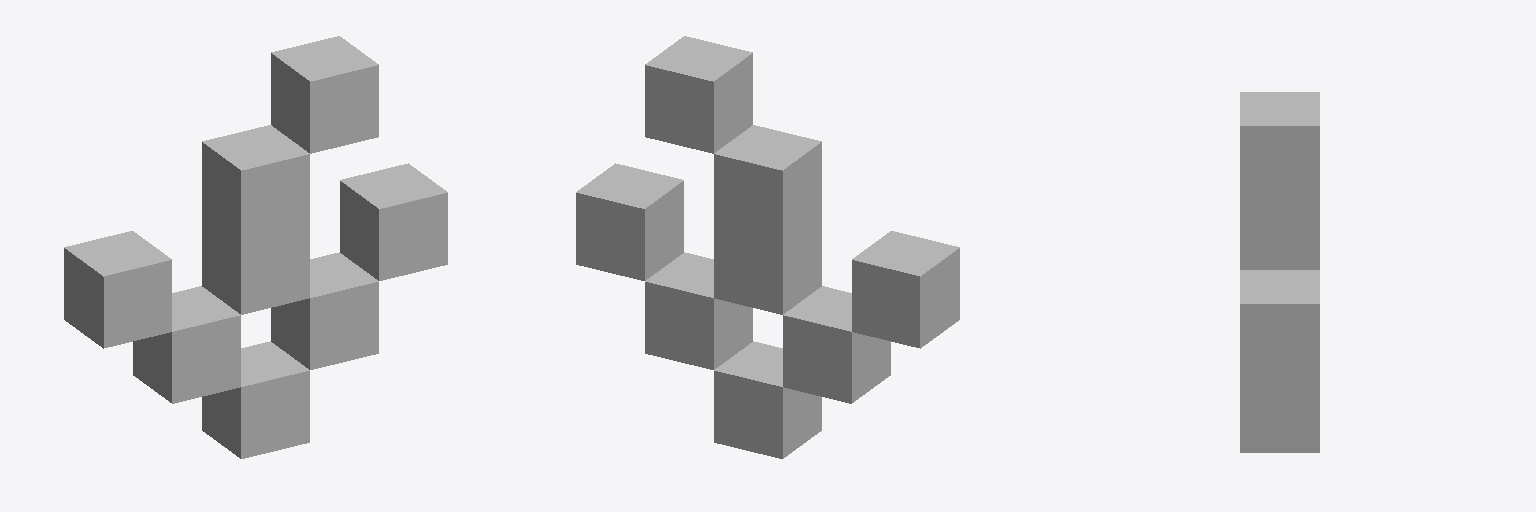
The model's file is grass01.obj.
3 views of the same model, side by side, from view 1: azimuth 30°, elevation 25°; view 2: azimuth 150°, elevation 25°; view 3: azimuth 270°, elevation 25° (orthographic).
Parts seen in each view (by area): view 1: object 1; view 2: object 1; view 3: object 1.
Boxes of the visible parts, <box> form: object 1: <box>64,36,447,458</box>; object 1: <box>576,36,959,458</box>; object 1: <box>1240,92,1319,452</box>.
Size of the model in its own units: 0.5 by 0.5 by 0.1.